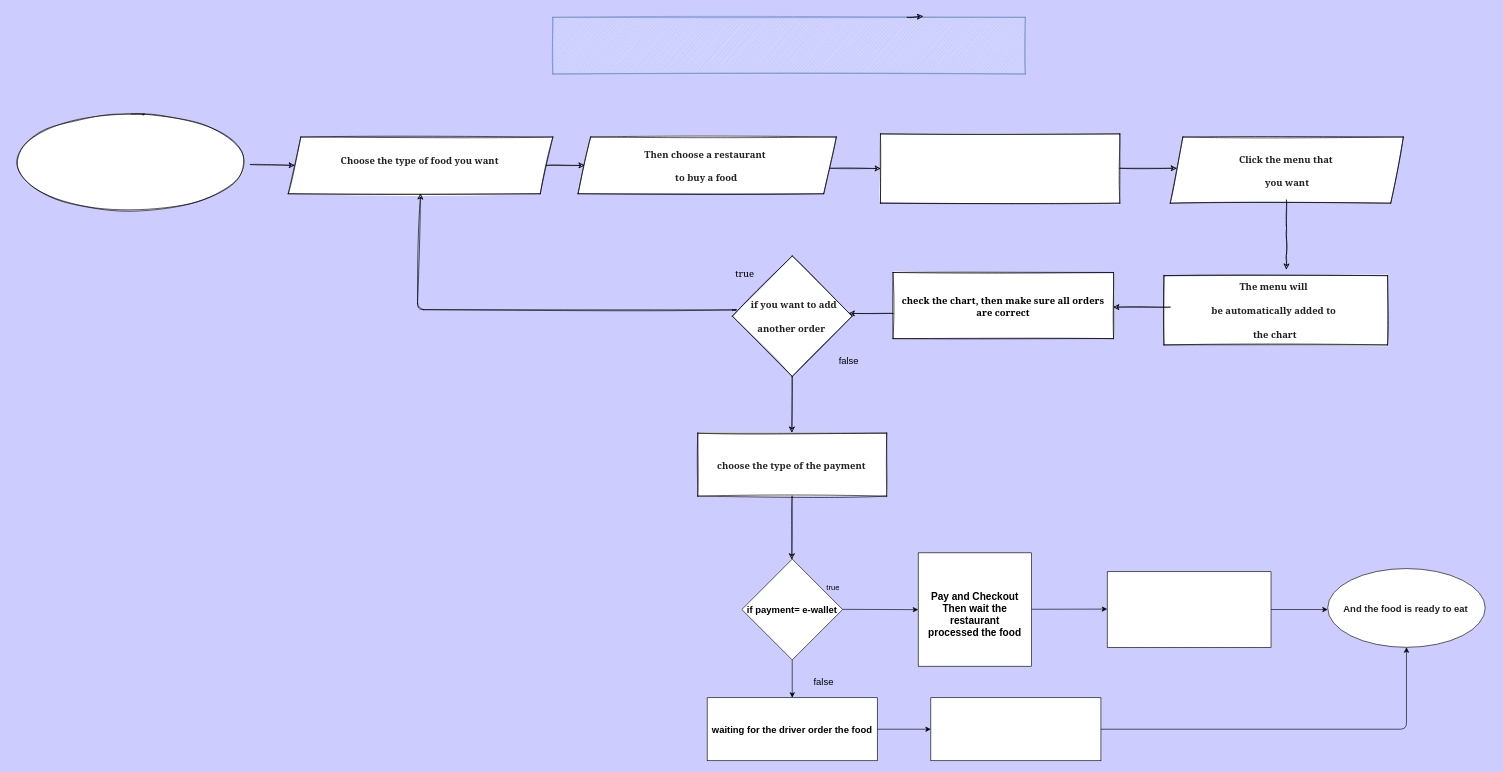
This 1503x772 diagram has some shape labels left out. Each missing label, with the centre of its shape:
"How To Order Food With Online Apps" belongs at point 788,45.
"Open the online application" belongs at point 130,162.
"Scroll the menu of the restaurant" belongs at point 1000,168.
"Then pay the food to the driver" belongs at point 1015,729.
"Then wait for the driver to bring the food" belongs at point 1189,609.
